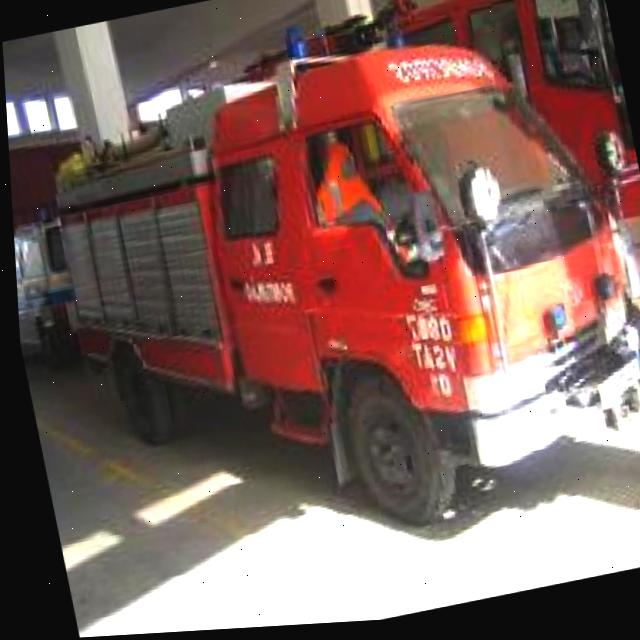emergency: (23, 0, 640, 585)
